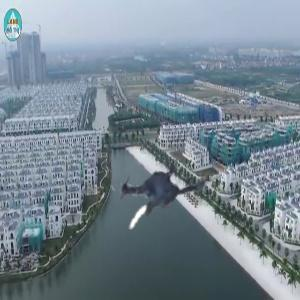drone: (99, 139, 215, 255)
